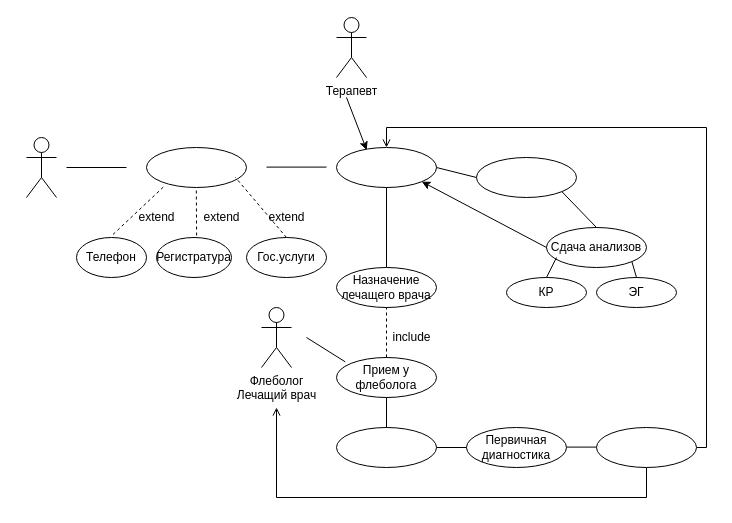
Some shapes in this 732 by 523 pixel diagram are drawn without their labels. Here are the shapes that lost their labels. From the top down, the box of each, then its label:
(26, 136, 56, 198): Пациент
(146, 146, 246, 188): Запись на прием к терапевту
(336, 146, 436, 188): Прием у терапевта
(476, 156, 576, 198): Назначение анализов
(336, 426, 436, 468): Обследование
(596, 426, 696, 468): Диагноз
